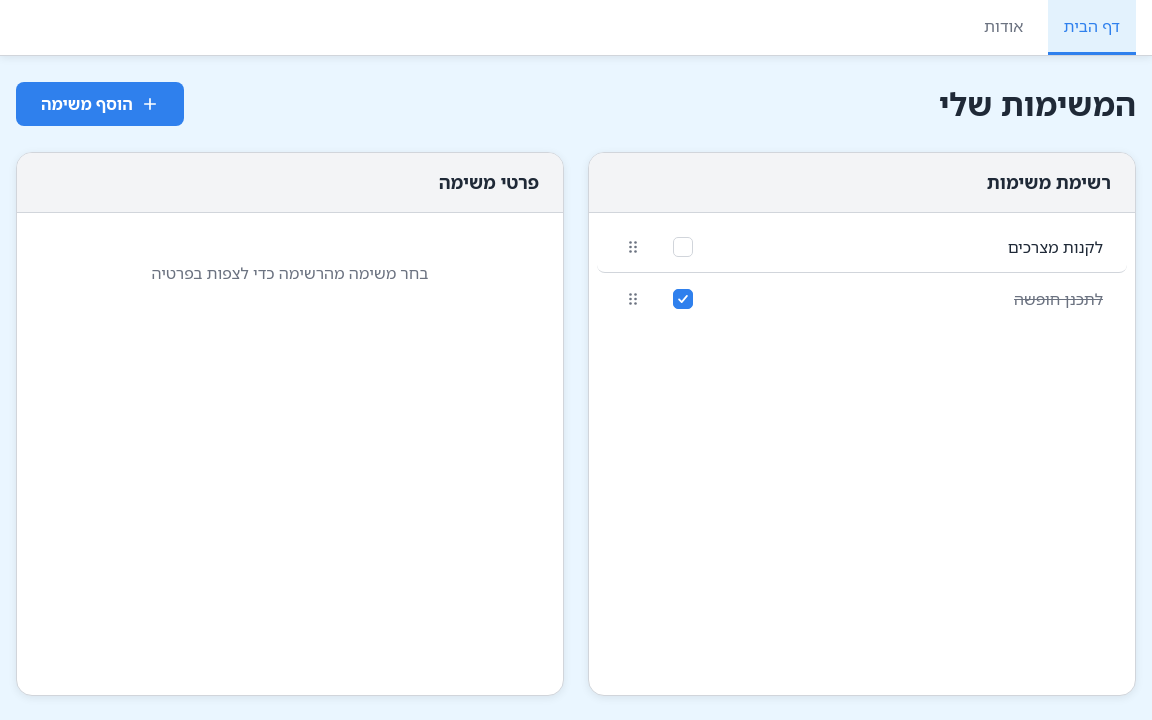
Test: Add task modal › closing with the close icon discards the draft and reopening resets the form
This screenshot has width=1152, height=720.
Click the button "הוסף משימה" at x=100, y=104, box [16,82,184,126]
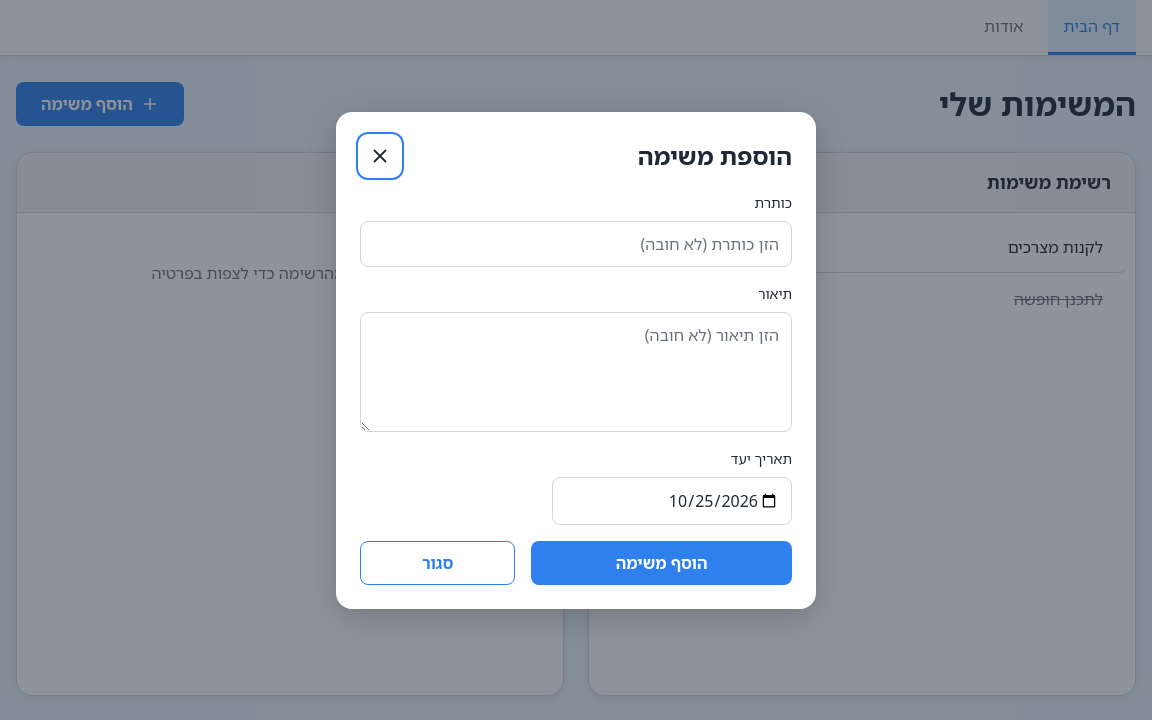
Type "טיוטה" into the field labelled "כותרת" at x=576, y=244, box [360,220,792,266]
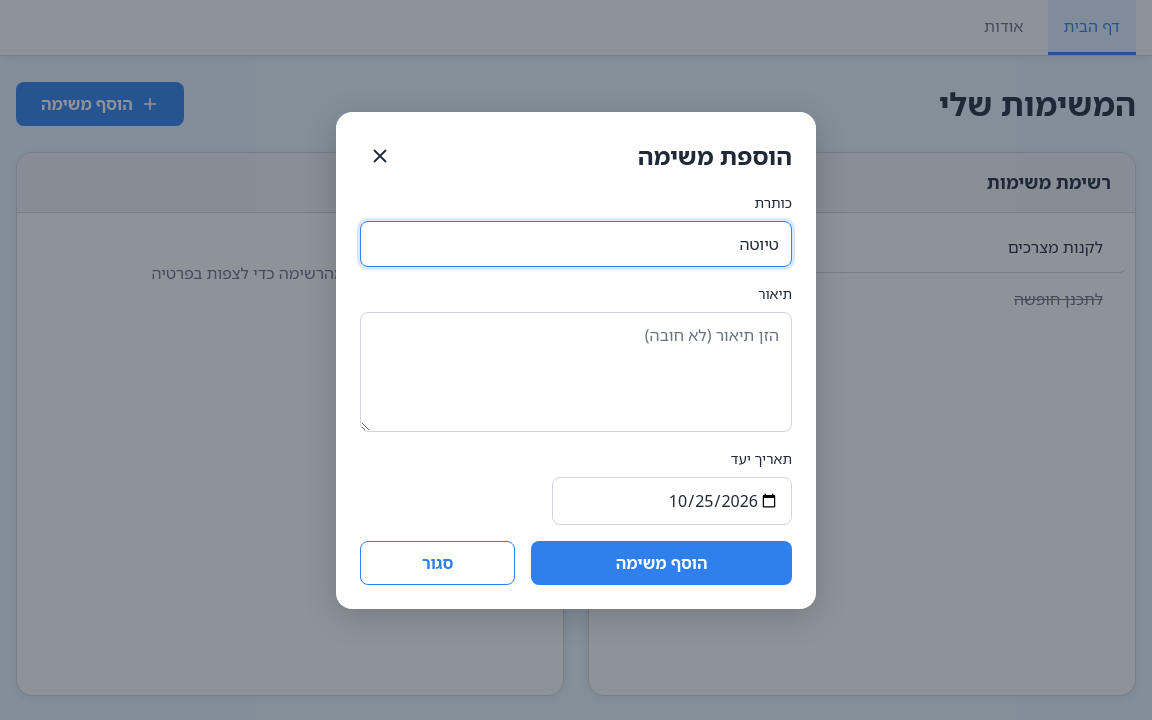
Clear the date field labelled "תאריך יעד" at x=672, y=500, box [552,476,792,524]
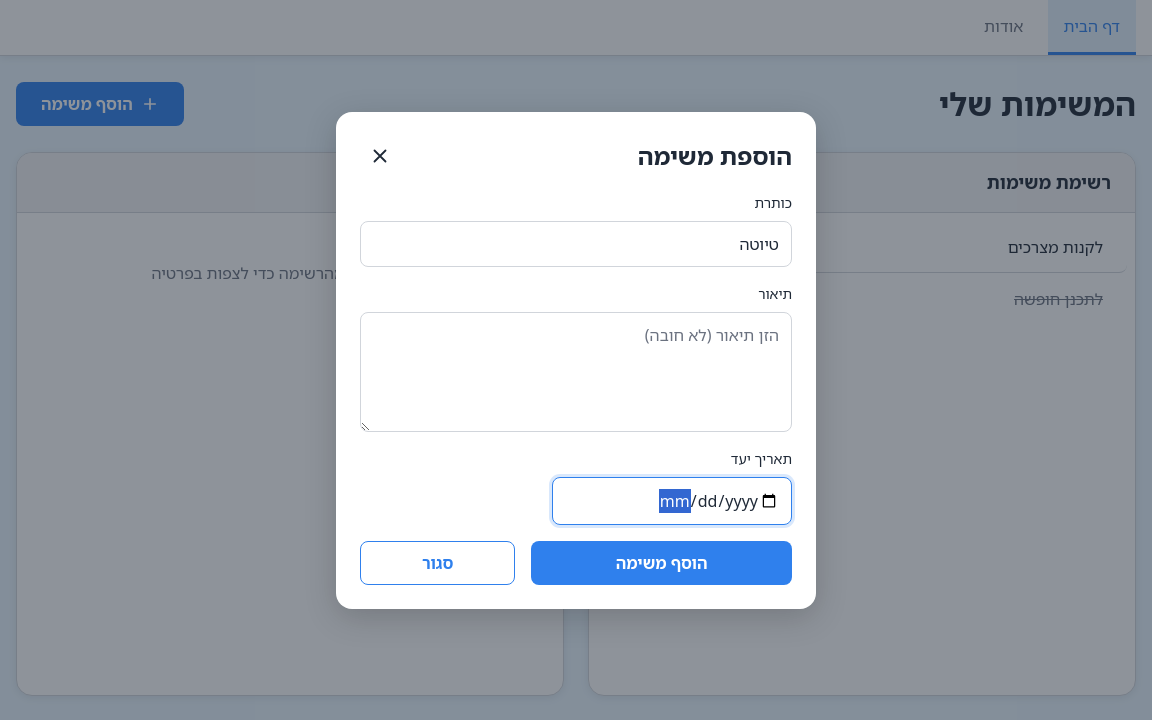
Click the button named "סגור" at x=380, y=156, box [360,136,400,176]
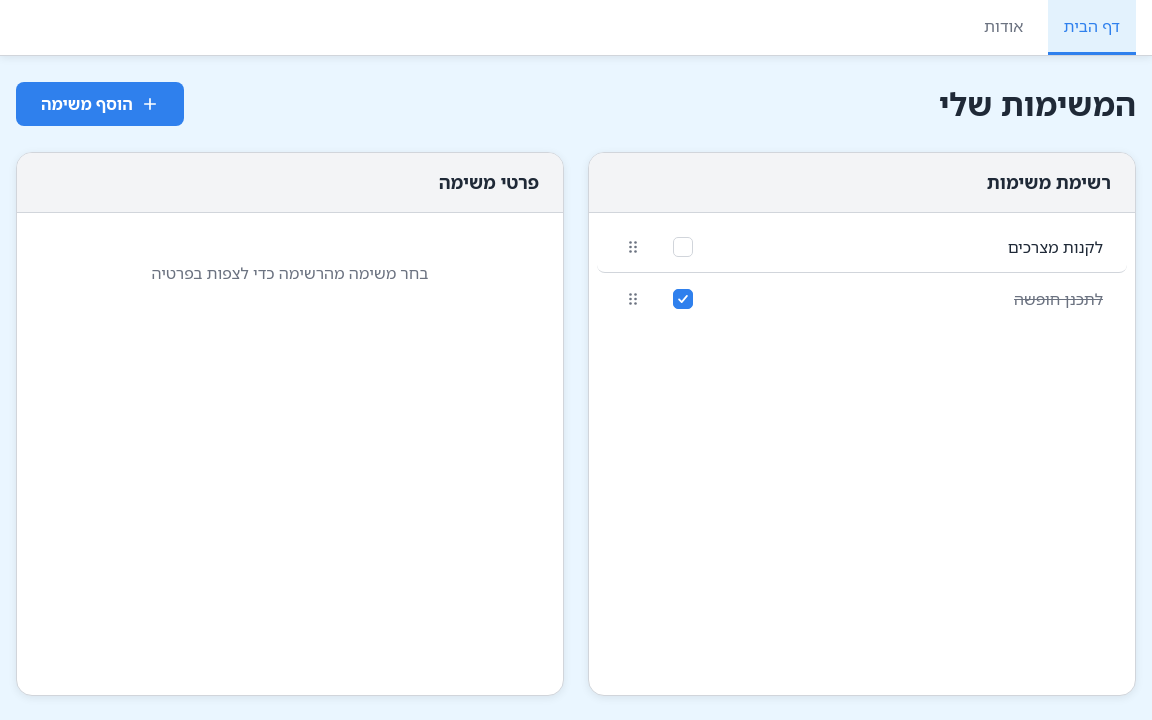
Expected: the dialog is gone
Click the button "הוסף משימה" at x=100, y=104, box [16,82,184,126]
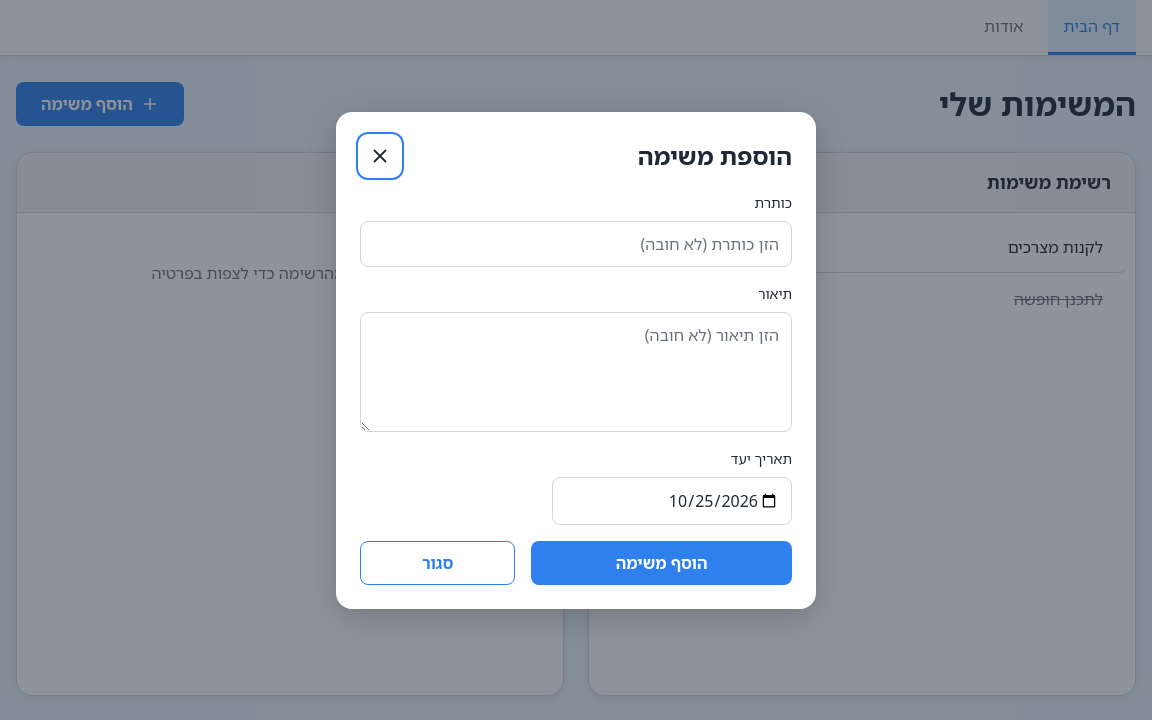
Expected: the field labelled "כותרת" is empty, [360,220,792,266]
Expected: the date field labelled "תאריך יעד" holds "2026-10-25", [552,476,792,524]
